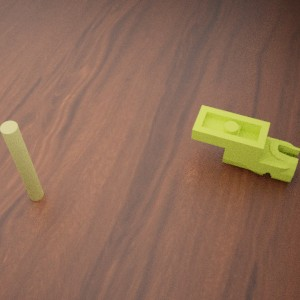lego: (191, 105, 300, 182), (0, 120, 43, 200)
